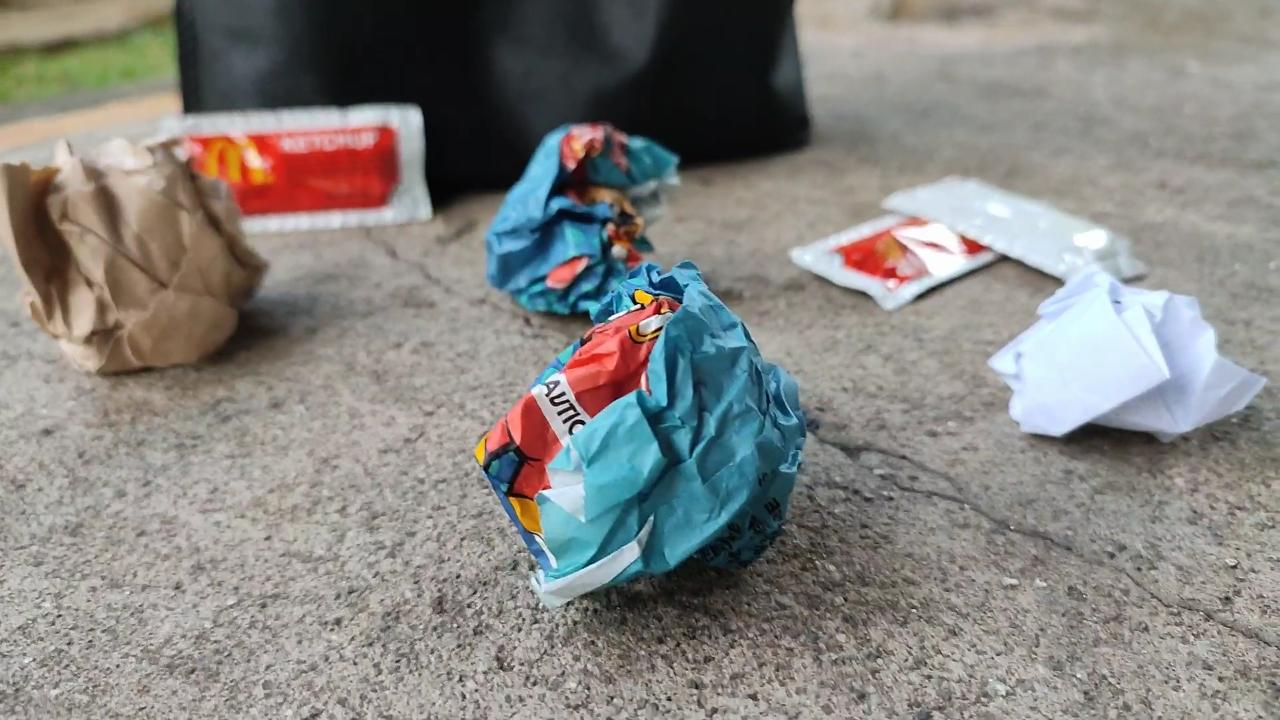Paper: (464, 235, 814, 618), (1, 127, 293, 384), (992, 265, 1280, 474), (472, 97, 676, 326)
